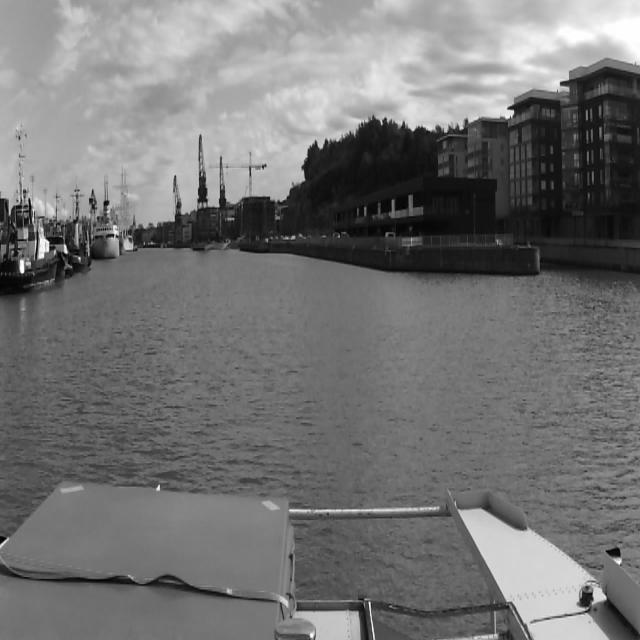ship: (0, 125, 60, 292), (66, 185, 90, 272), (92, 202, 118, 260), (119, 167, 133, 253)
